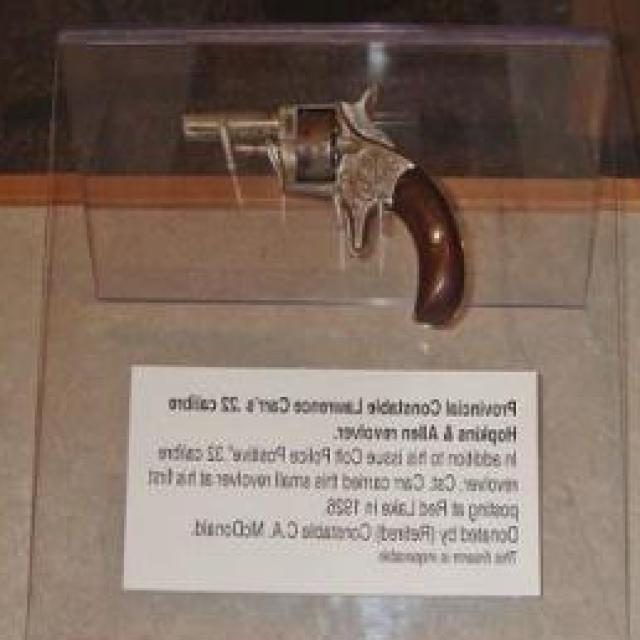pistol: (180, 75, 464, 326)
